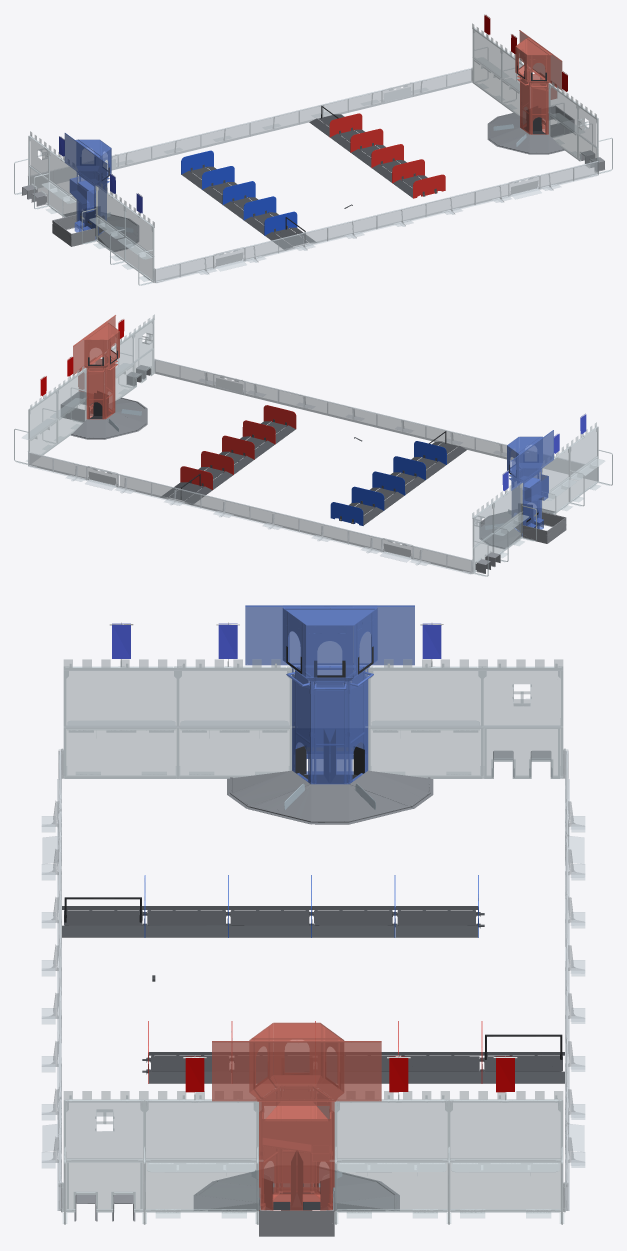
File: field-2016-D_zUvWEx.glb
The picture shows the model from 3 angles, top to bottom: view 1: azimuth 30°, elevation 25°; view 2: azimuth 150°, elevation 25°; view 3: azimuth 270°, elevation 25°; orthographic projection. The views are drawn at different scales.
Visible parts, largest first — view 1: FE-00015, FE-00003 (×2), TOWER2_ROOF (×2), GE-16020 (×2), GE-16022, GE-16144, GE-16120, FE-00012, GE-16127, GE-16004-03; view 2: FE-00015, FE-00003 (×2), TOWER2_ROOF (×2), GE-16020 (×2), GE-16022, GE-16144, GE-16120, FE-00012, GE-16127, GE-16004-03 (×2); view 3: FE-00003 (×2), TOWER2_ROOF (×2), GE-16120, FE-00012, GE-16022, GE-16144, FE-00015, GE-16004-03 (×2), GE-16127, GE-16126_BLUE, GE-16126_RED.
Boxes of the visible parts, x1,y1,x2,y2 form: FE-00015: (28, 68, 598, 283); FE-00003 (×2): (14, 23, 612, 285); TOWER2_ROOF (×2): (64, 30, 562, 239); GE-16020 (×2): (181, 113, 445, 235); GE-16022: (181, 114, 436, 249); GE-16144: (63, 112, 564, 251); GE-16120: (472, 29, 596, 147); FE-00012: (30, 138, 152, 254); GE-16127: (22, 105, 604, 246); GE-16004-03: (517, 65, 546, 134); FE-00015: (28, 359, 598, 574); FE-00003 (×2): (14, 314, 612, 576); TOWER2_ROOF (×2): (73, 315, 553, 536); GE-16020 (×2): (180, 405, 446, 525); GE-16022: (162, 419, 466, 525); GE-16144: (70, 397, 554, 549); GE-16120: (29, 321, 153, 438); FE-00012: (474, 429, 596, 545); GE-16127: (60, 365, 566, 573); GE-16004-03 (×2): (88, 350, 538, 534); FE-00003 (×2): (59, 659, 567, 1224); TOWER2_ROOF (×2): (212, 605, 414, 1210); GE-16120: (66, 1101, 560, 1158); FE-00012: (64, 668, 560, 727); GE-16022: (62, 906, 564, 1083); GE-16144: (193, 770, 433, 1210); FE-00015: (41, 750, 585, 1210); GE-16004-03 (×2): (264, 646, 373, 1210); GE-16127: (74, 742, 552, 1236); GE-16126_BLUE: (112, 623, 441, 658); GE-16126_RED: (185, 1056, 514, 1092).
Size of the model in its own units: 18.45 by 3.06 by 8.78.
